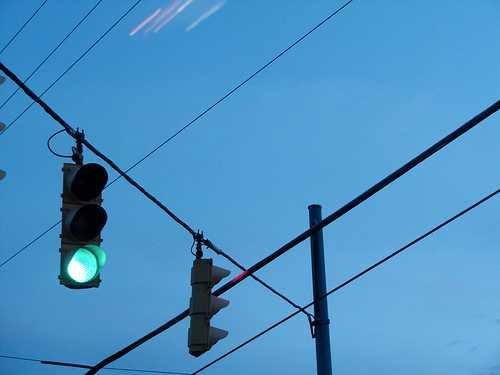green: (61, 158, 107, 294), (62, 243, 107, 288)
